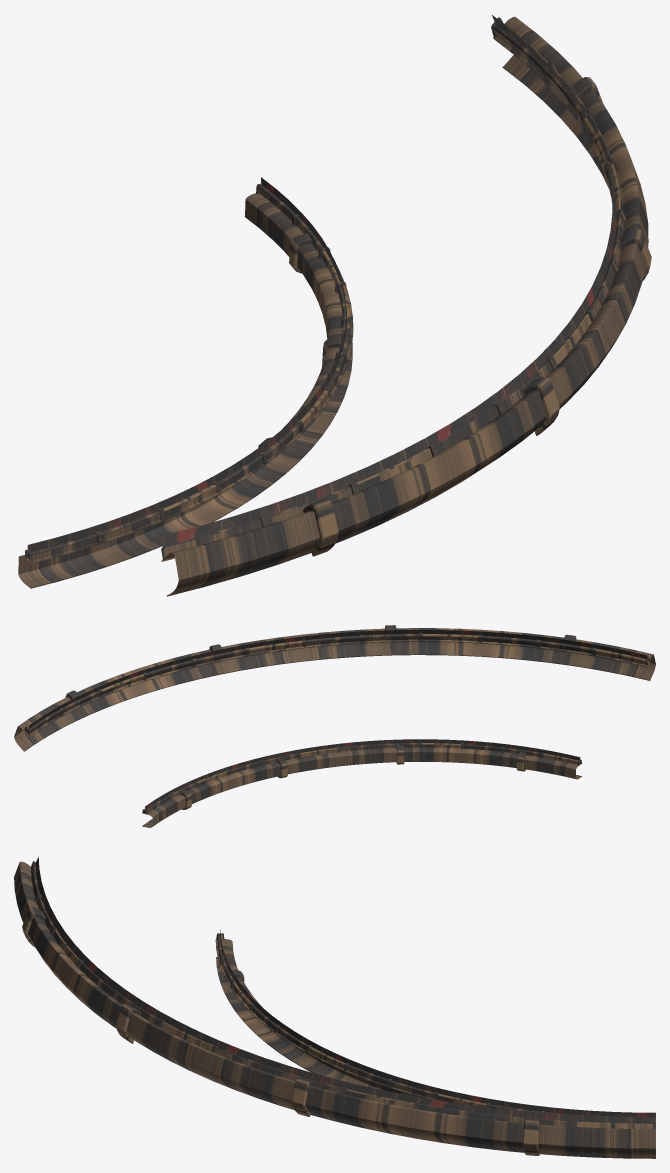
Rendered from Mur_V_C_90x2.fbx.
3 renders of one model, top to bottom at view 1: azimuth 30°, elevation 25°; view 2: azimuth 150°, elevation 25°; view 3: azimuth 270°, elevation 25°, orthographic. The views are drawn at different scales.
Visible parts, largest first — view 1: polySurface311; view 2: polySurface311; view 3: polySurface311.
Part boxes in pixels (<box>): polySurface311: <box>18,15,651,596</box>; polySurface311: <box>14,625,655,827</box>; polySurface311: <box>14,856,655,1158</box>.
Bounding box in the file's own units: 46.05 × 8.2 × 46.05.
